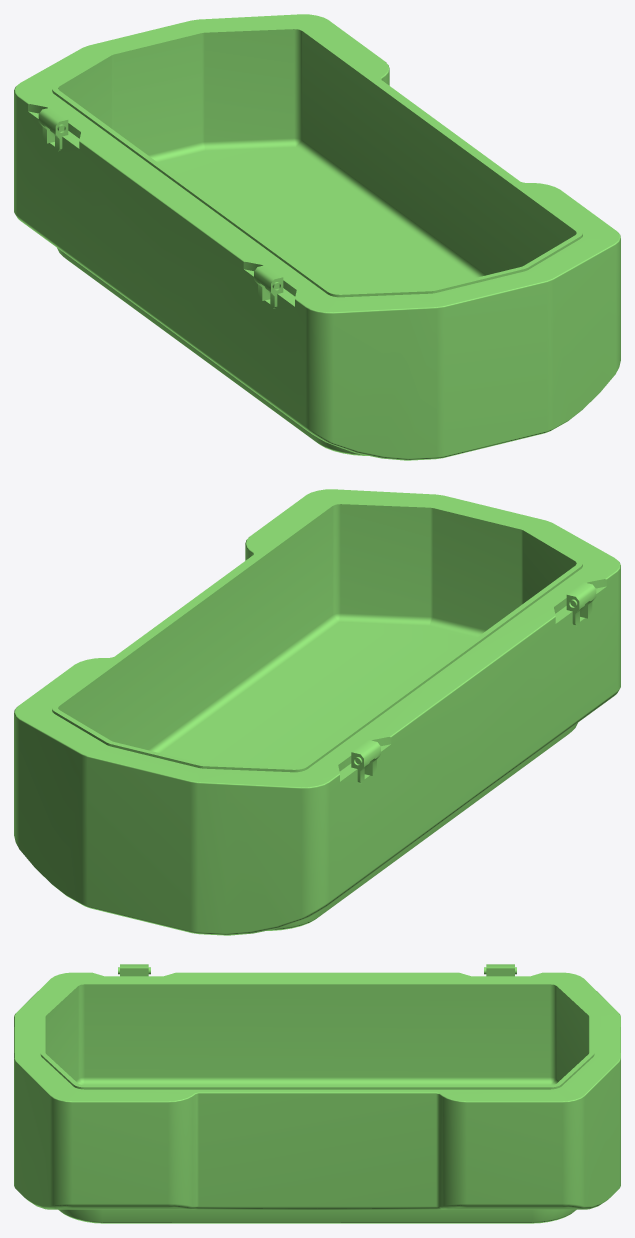
The picture shows the model from 3 angles, top to bottom: view 1: azimuth 30°, elevation 25°; view 2: azimuth 150°, elevation 25°; view 3: azimuth 270°, elevation 25°; orthographic projection. The views are drawn at different scales.
Visible parts, largest first — view 1: Box03_01; view 2: Box03_01; view 3: Box03_01.
Part boxes in pixels (box(x1,y1,x2,y2)): Box03_01: box(14, 14, 620, 460); Box03_01: box(14, 489, 620, 935); Box03_01: box(14, 964, 620, 1223).
Bounding box in the file's own units: 68.93 × 34.4 × 134.
